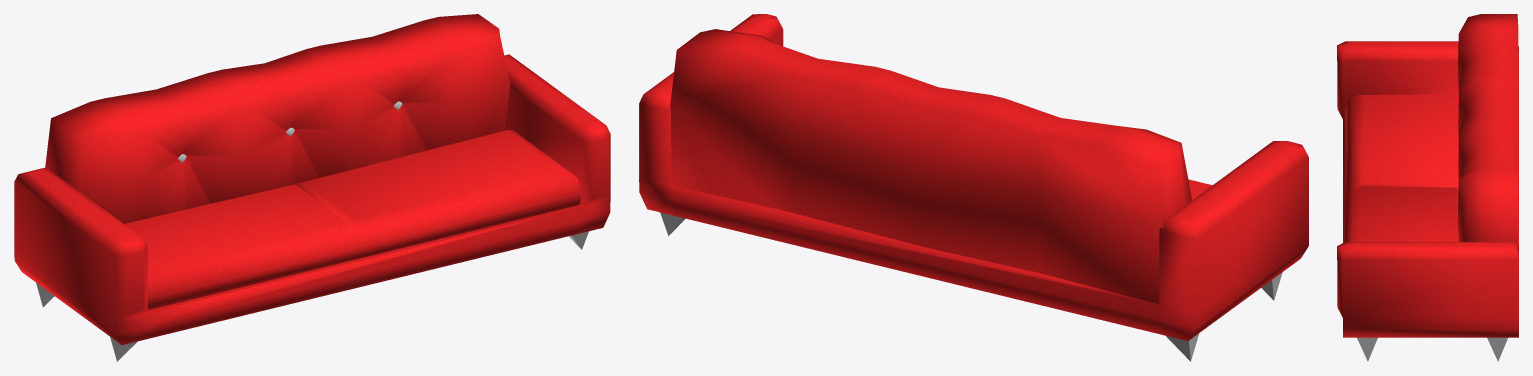
Rendered from Sofa_B_3.FBX.
The picture shows the model from 3 angles, left to right: view 1: azimuth 30°, elevation 25°; view 2: azimuth 150°, elevation 25°; view 3: azimuth 270°, elevation 25°; orthographic projection. The views are drawn at different scales.
Visible parts, largest first — view 1: Sofa; view 2: Sofa; view 3: Sofa.
Part boxes in pixels (box(x1,y1,x2,y2)): Sofa: box(14, 14, 610, 361); Sofa: box(639, 14, 1308, 361); Sofa: box(1337, 14, 1518, 361).
Bounding box in the file's own units: 468 × 168 × 169.
